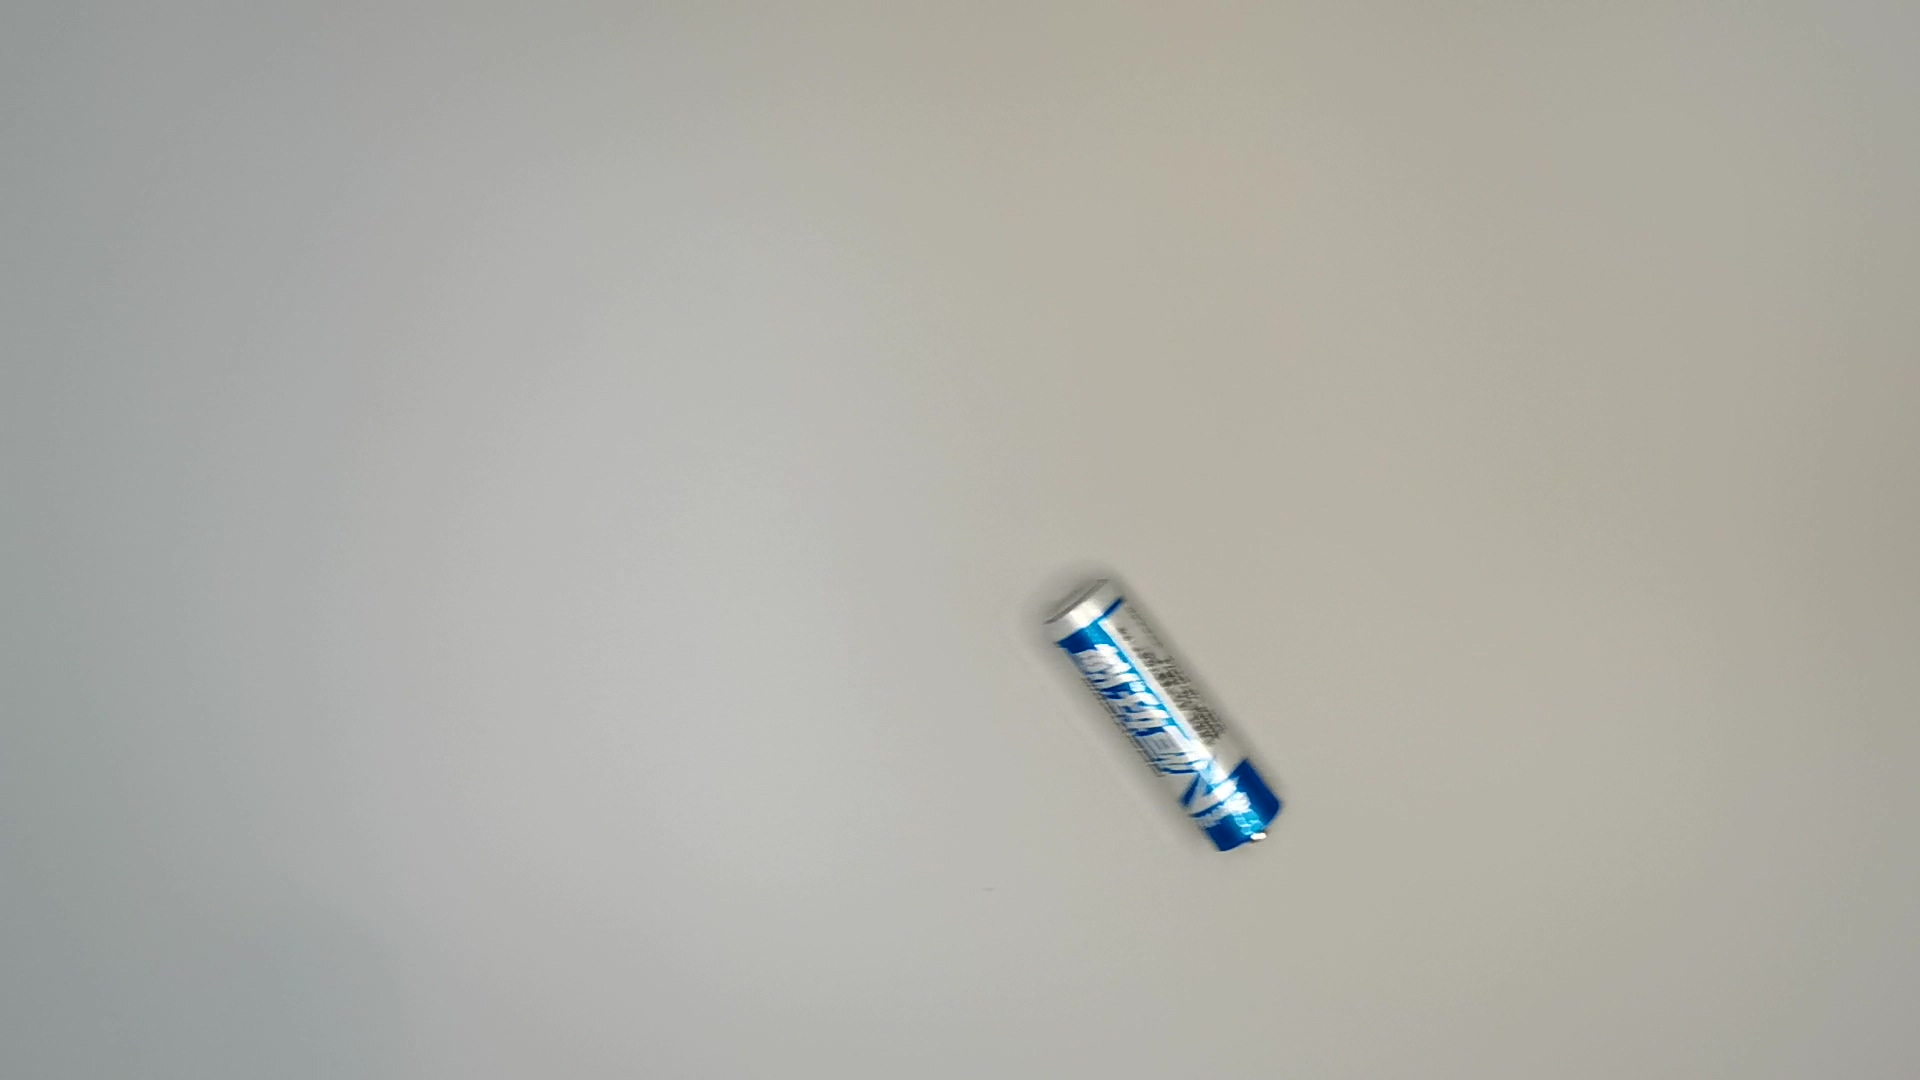battery: (1044, 572, 1292, 860)
